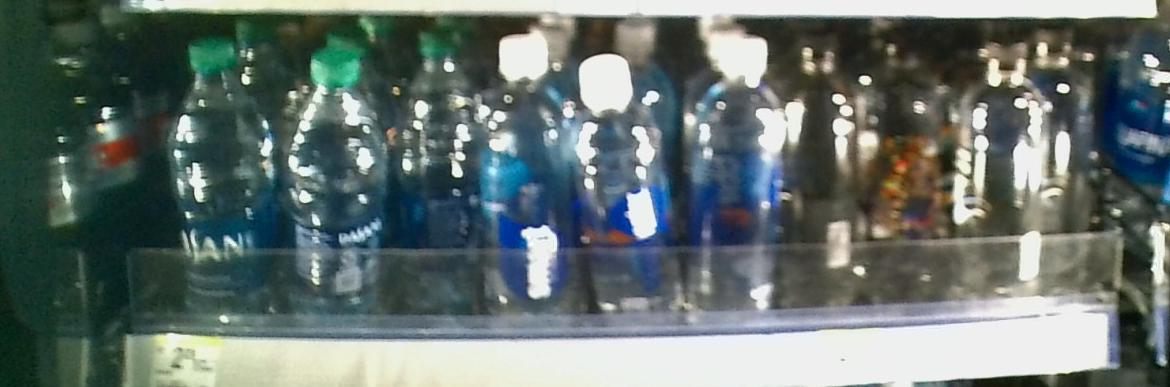bottle: (162, 35, 274, 328), (283, 49, 392, 320), (573, 48, 669, 317), (478, 35, 566, 324), (688, 30, 776, 316), (400, 26, 474, 325), (966, 39, 1048, 299), (788, 37, 860, 314)
